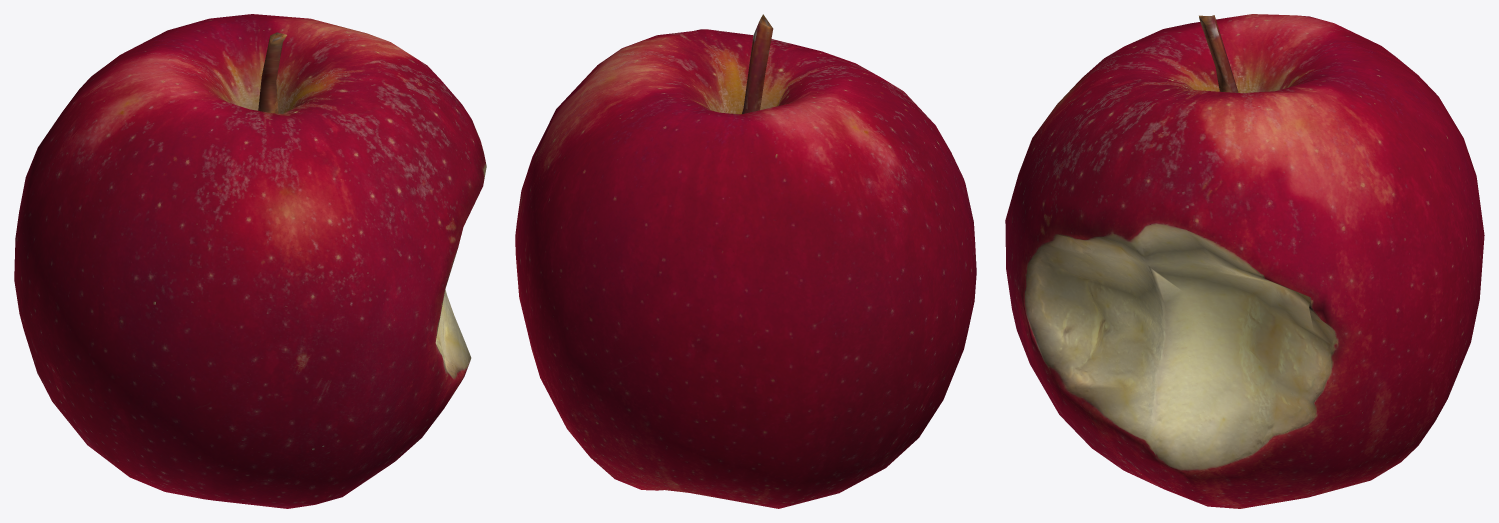
Rendered from apple.fbx.
3 views of the same model, side by side, from view 1: azimuth 30°, elevation 25°; view 2: azimuth 150°, elevation 25°; view 3: azimuth 270°, elevation 25° (orthographic). The views are drawn at different scales.
Visible parts, largest first — view 1: Aset_food_fruit_S_tgzpdhlpa_LOD3; view 2: Aset_food_fruit_S_tgzpdhlpa_LOD3; view 3: Aset_food_fruit_S_tgzpdhlpa_LOD3.
Boxes of the visible parts, x1,y1,x2,y2 form: Aset_food_fruit_S_tgzpdhlpa_LOD3: (14,14,486,508); Aset_food_fruit_S_tgzpdhlpa_LOD3: (515,14,976,508); Aset_food_fruit_S_tgzpdhlpa_LOD3: (1005,14,1484,508).
Size of the model in its own units: 32.34 by 34.14 by 32.52.
